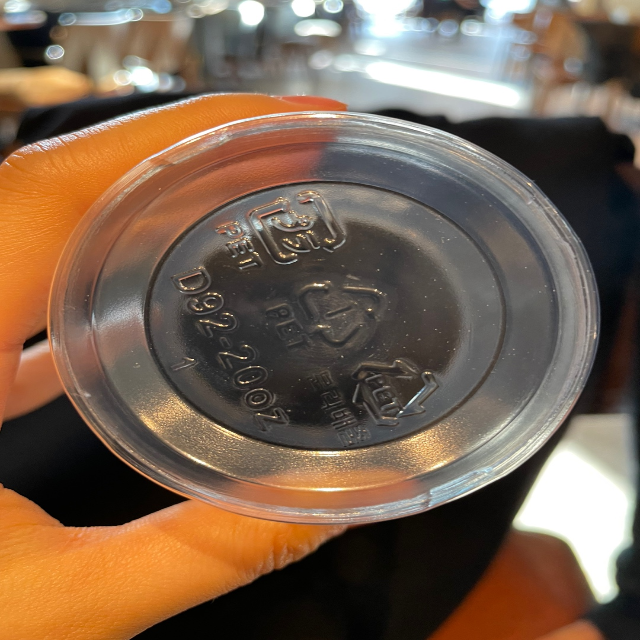pet: (214, 188, 357, 277), (304, 354, 444, 444), (260, 273, 394, 361)
